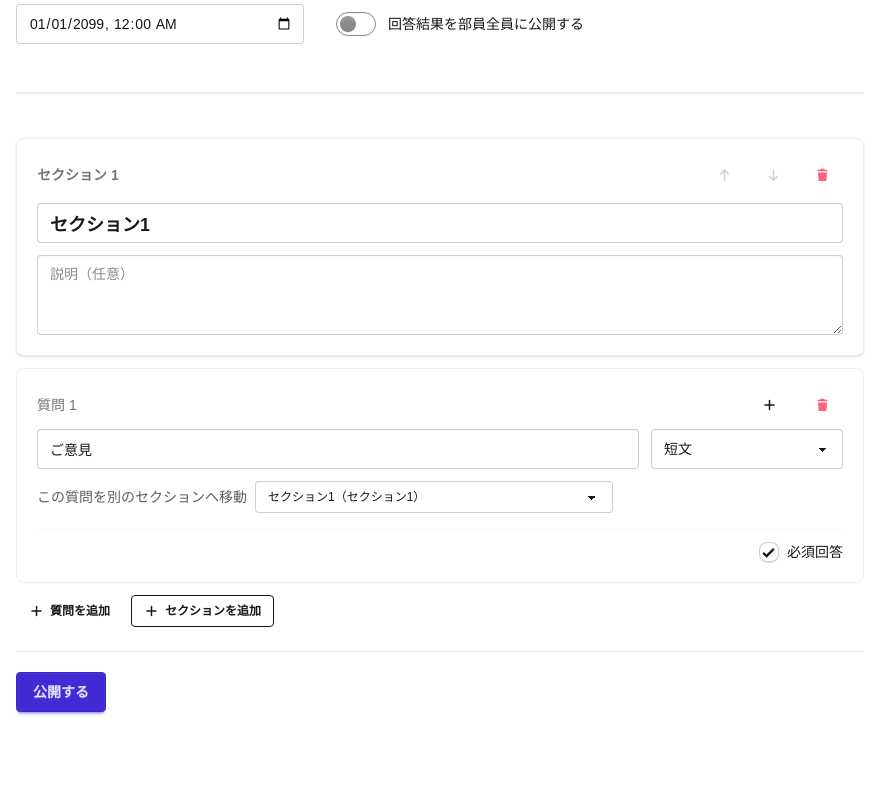
Test: 作成中のアンケート › 質問形式を切り替えても設定済みの選択肢を保持する
(page scrolled)
Select "単一選択" in the dropdown named "質問 1 の形式" at (747, 449), box top-left (651, 429), bottom-right (843, 469)
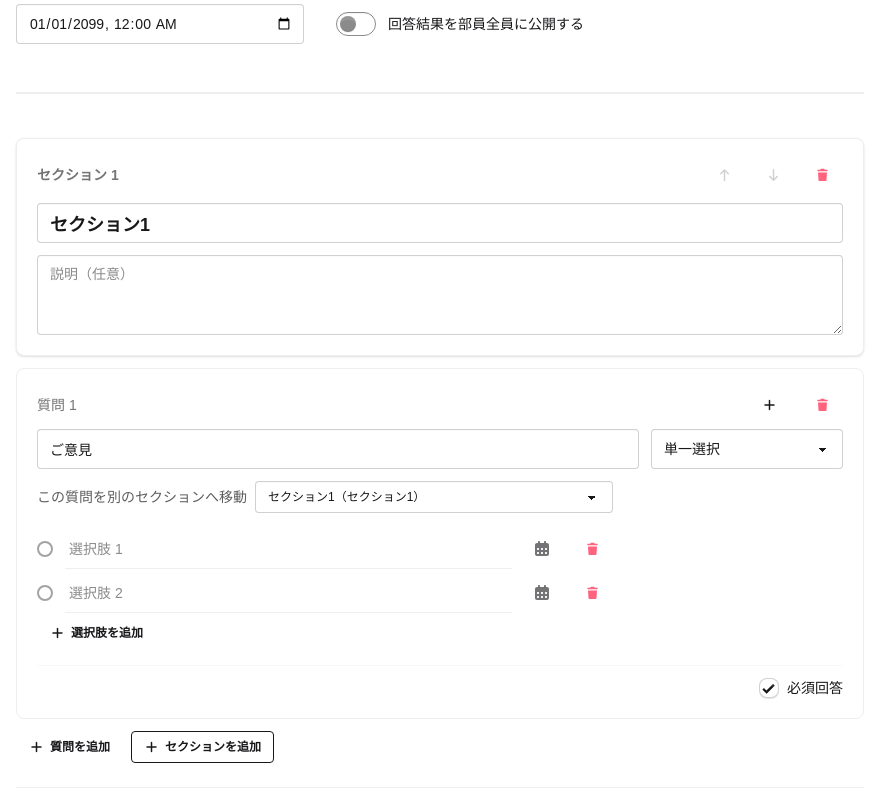
Type "参加する" into the field labelled "選択肢 1".
click(288, 549); type("参加する")  # box top-left (65, 529), bottom-right (512, 569)
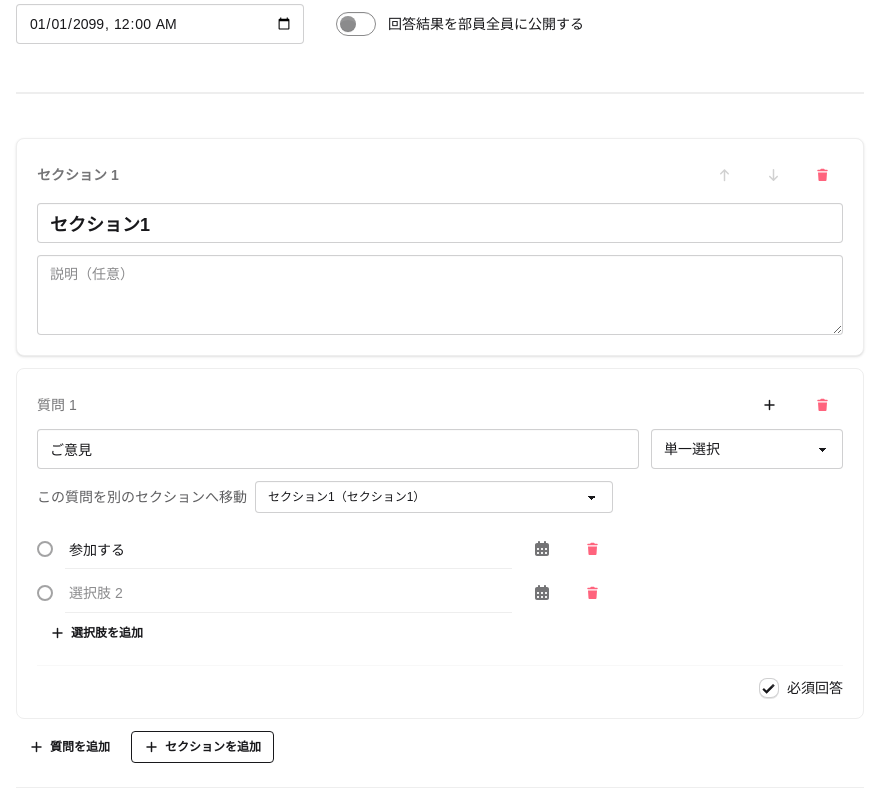
Select "短文" in the dropdown named "質問 1 の形式" at (747, 449), box top-left (651, 429), bottom-right (843, 469)
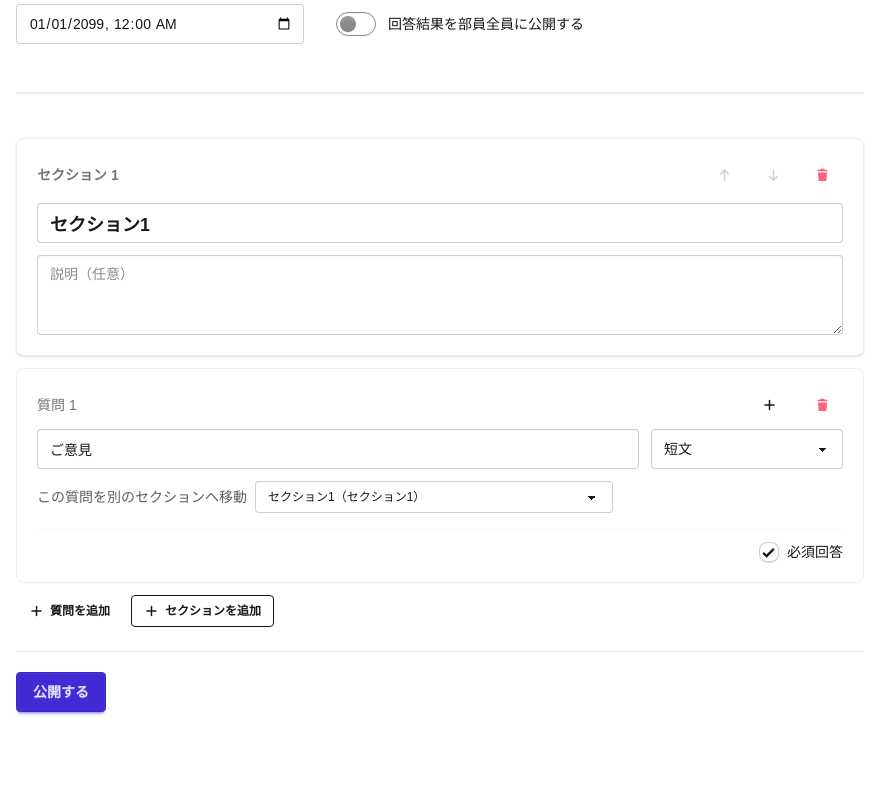
Select "複数選択" in the dropdown named "質問 1 の形式" at (747, 449), box top-left (651, 429), bottom-right (843, 469)
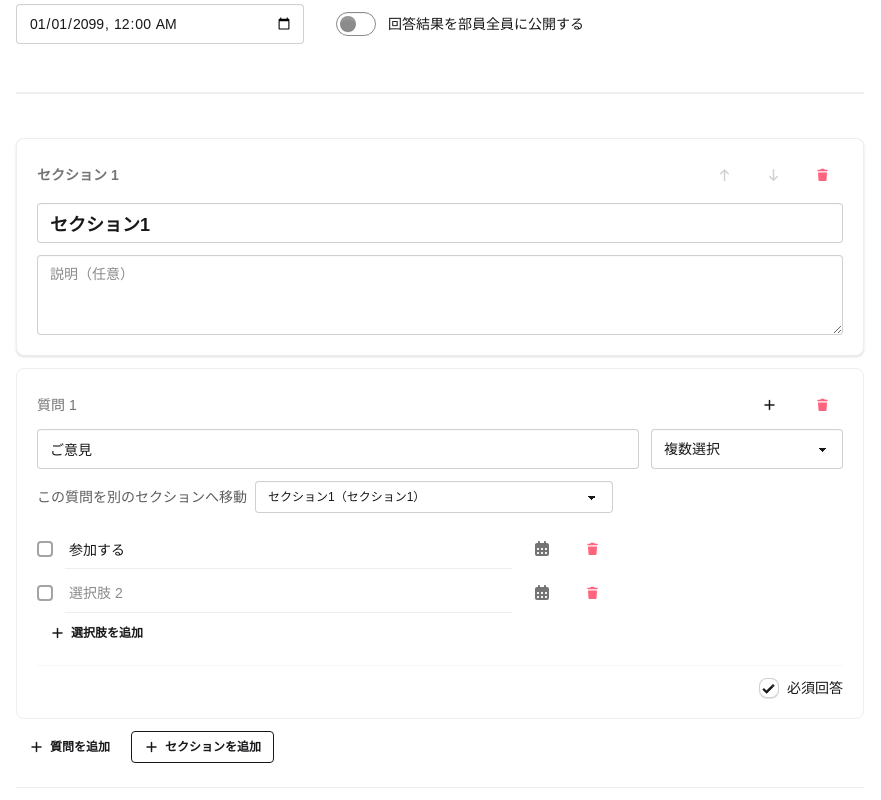
Expected: the field named "選択肢 1" holds "参加する", top-left (65, 529), bottom-right (512, 569)
